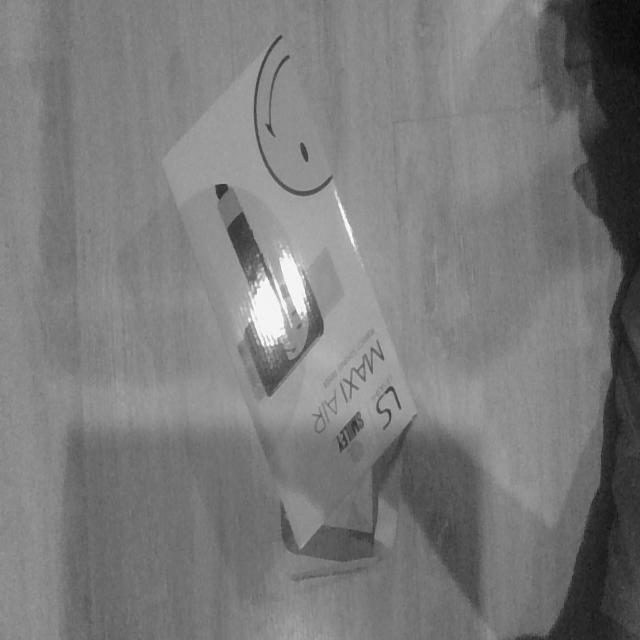Dryer: (160, 32, 419, 562)
